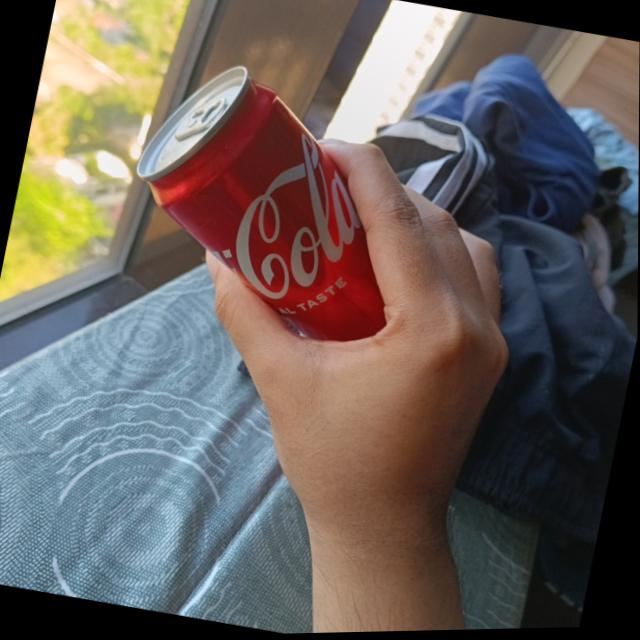coke: (113, 48, 437, 351)
